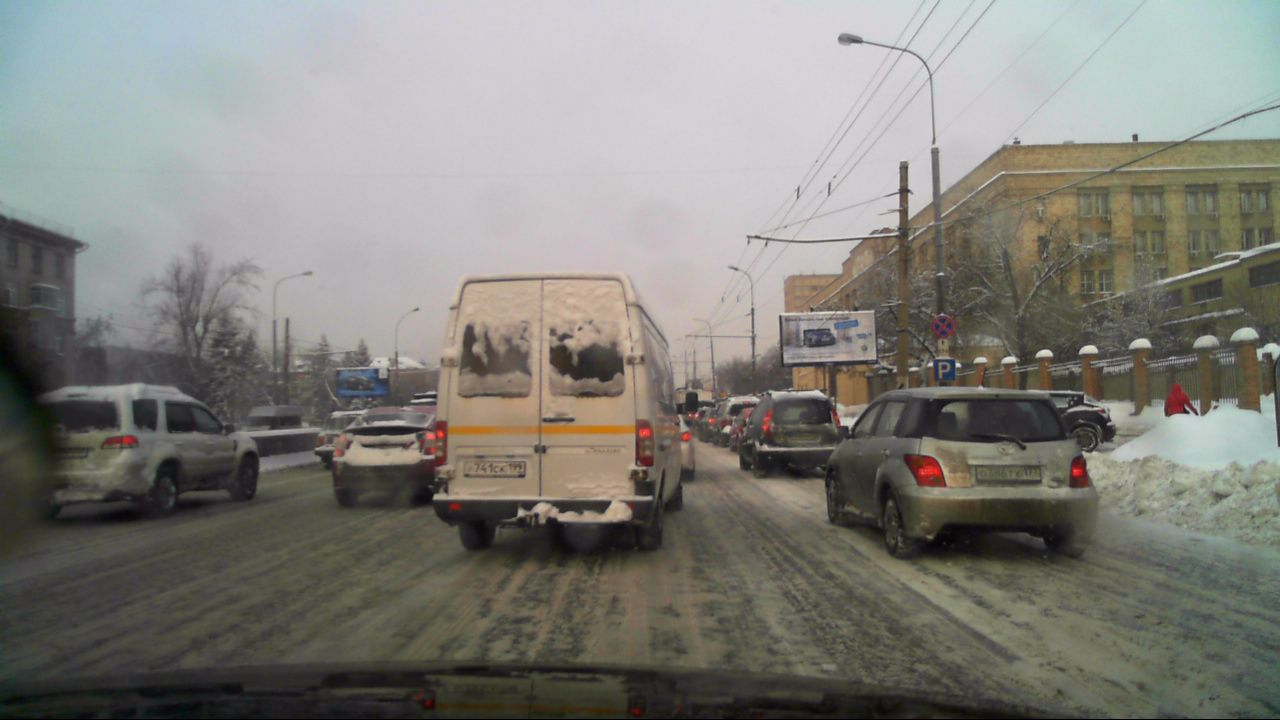No Parking: (927, 314, 954, 337)
